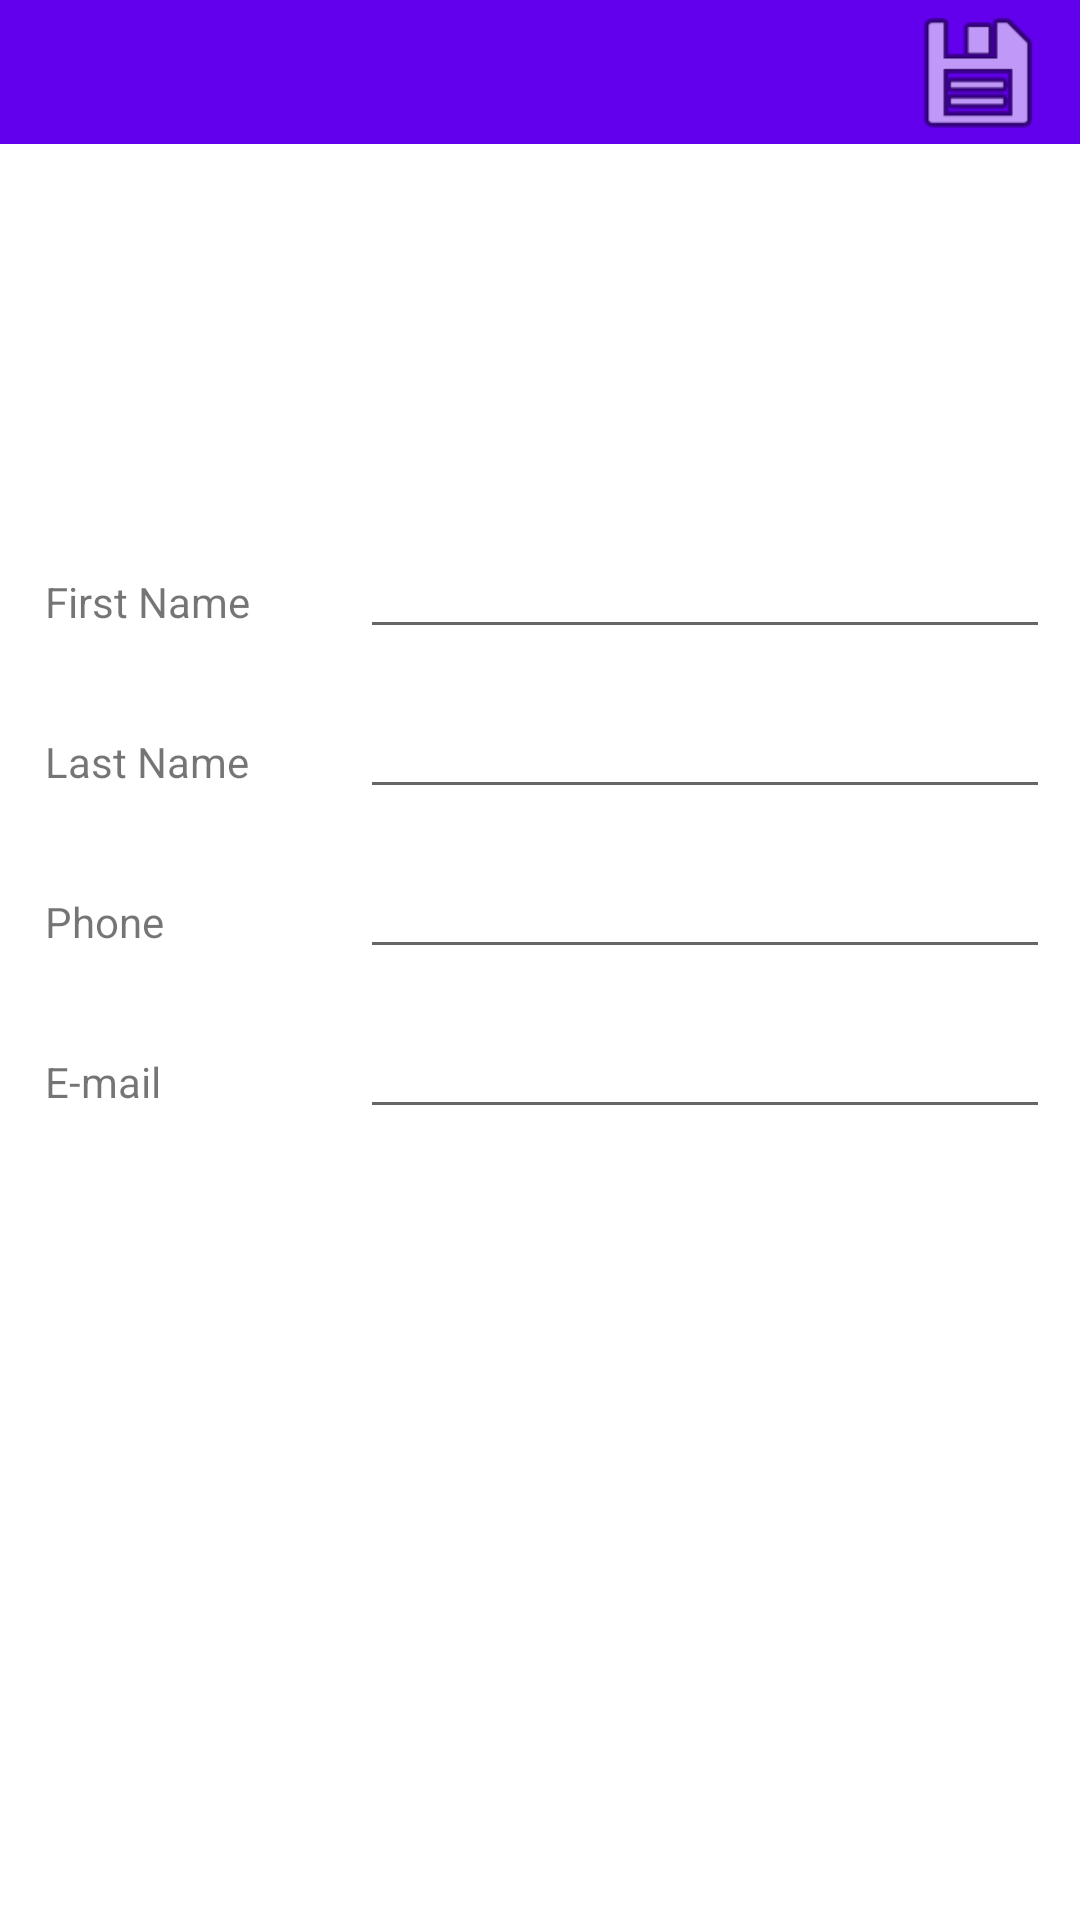

Point at icon controls on the screen. Image size 1080px×1920px, points as (x,y).
save: (978,73)
